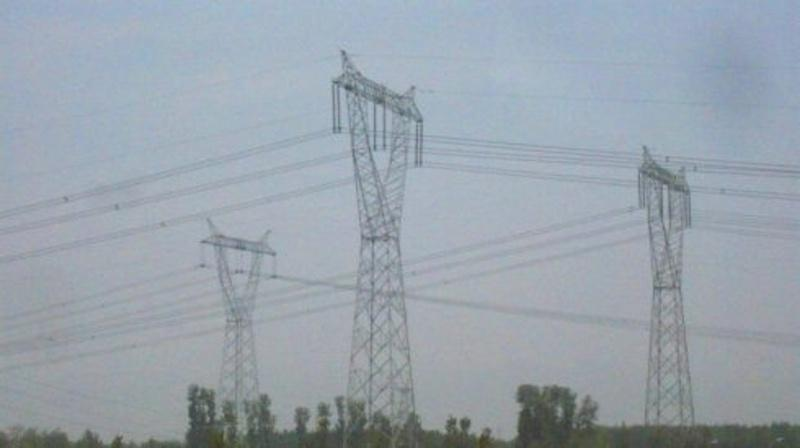power_tower: (314, 46, 429, 431), (623, 140, 703, 424), (196, 219, 273, 416)
